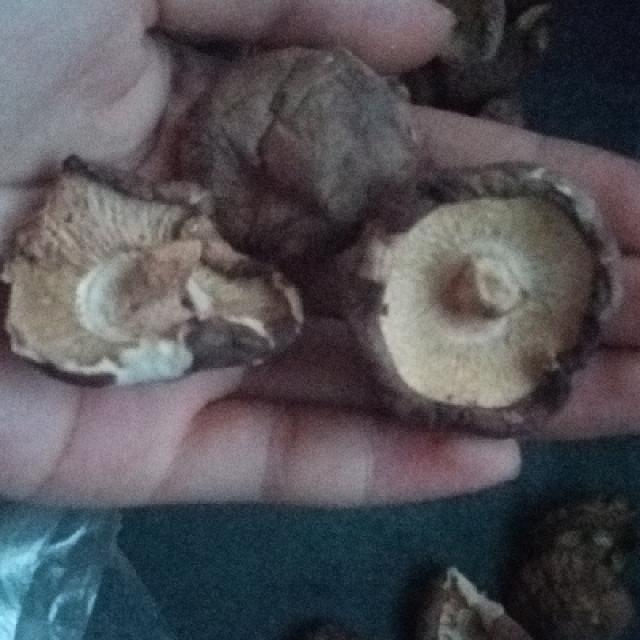Lentinus edodes: (348, 155, 617, 431), (0, 160, 307, 374), (189, 43, 422, 254)
